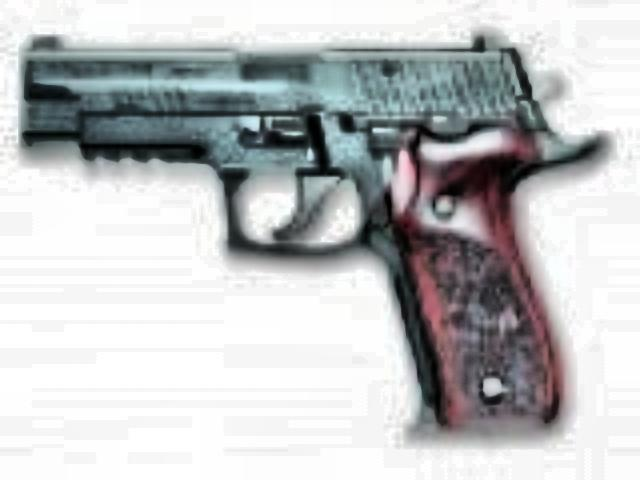pistol: (16, 24, 600, 424)
